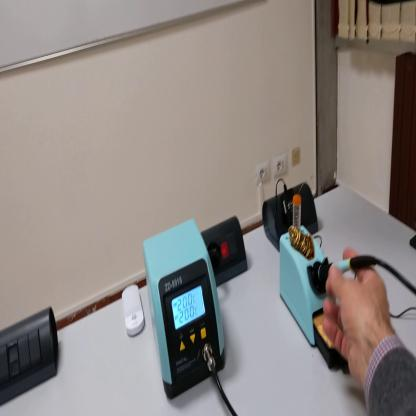hand: (323, 248, 394, 385)
socket: (263, 176, 321, 250), (202, 212, 250, 287)
welder base: (277, 192, 352, 374)
welder probe tip: (312, 254, 377, 289)
welder station: (142, 223, 228, 403)
